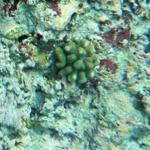alive: (4, 2, 148, 147)
